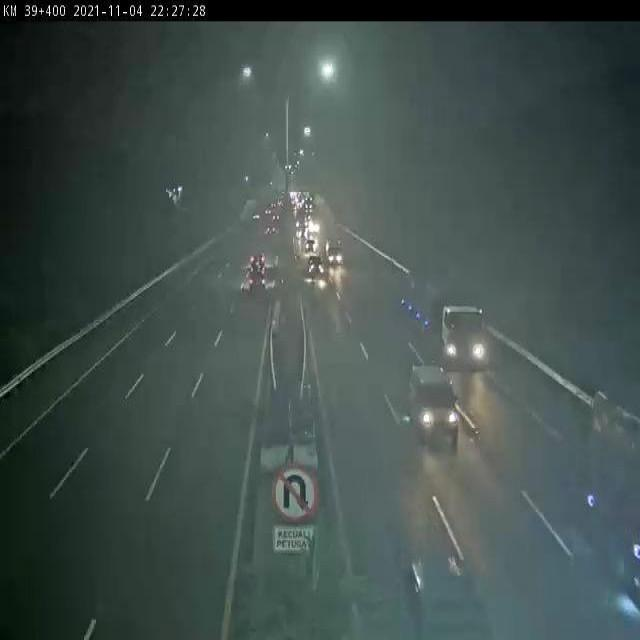car: (406, 367, 457, 437), (247, 272, 267, 297), (249, 249, 267, 276), (306, 256, 323, 277)
truck-s-: (325, 240, 344, 265)
truck-xl-: (393, 269, 488, 367)
